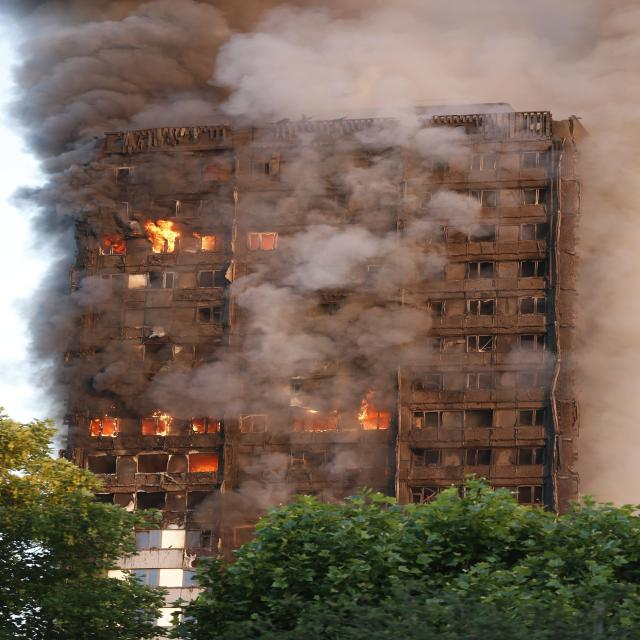smoke: (72, 0, 609, 126), (254, 134, 394, 389), (574, 136, 633, 516)
